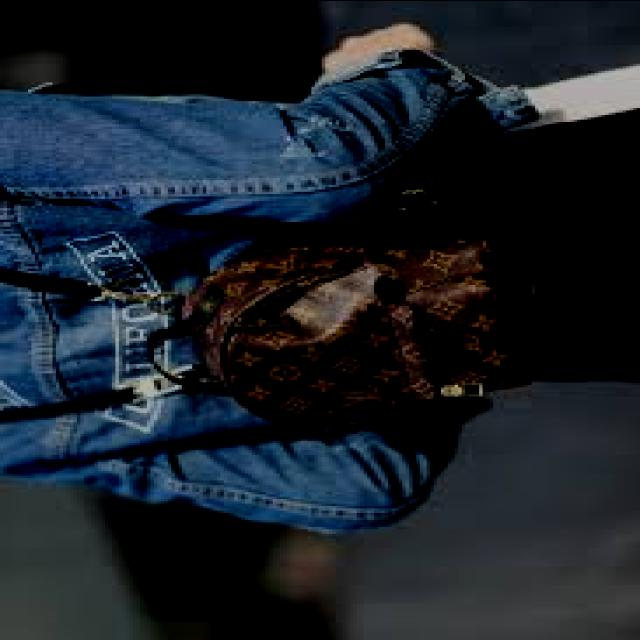backpack: (133, 178, 544, 438)
